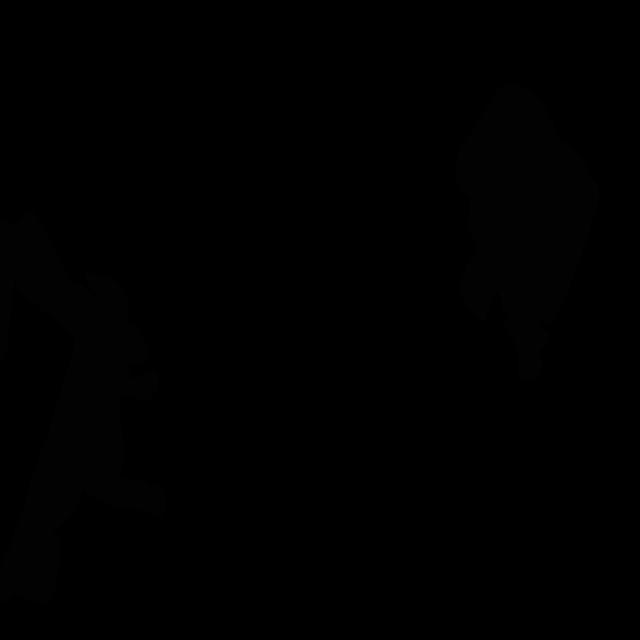cardboard: (0, 209, 166, 604), (455, 82, 599, 383), (0, 217, 24, 361)
